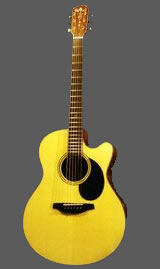guitar: (20, 4, 128, 266)
